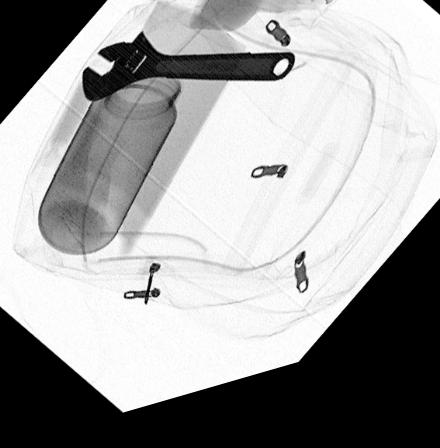Wrench: (79, 35, 299, 108)
